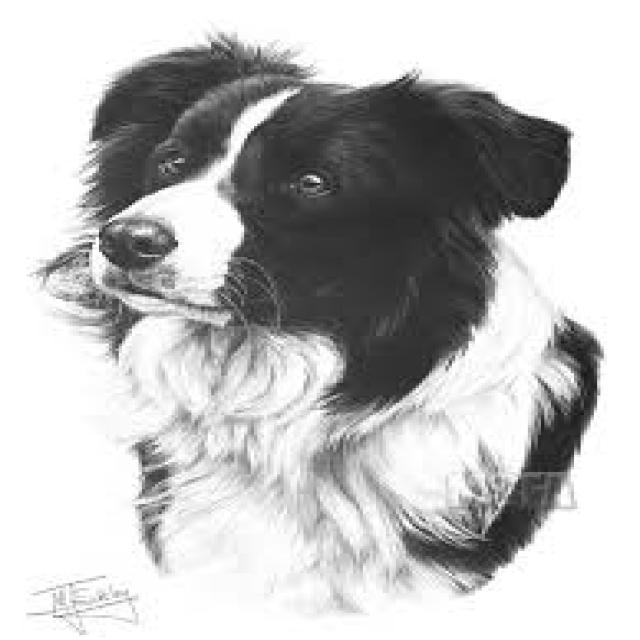ALASKAN_MALAMUTE: (6, 10, 640, 606)
